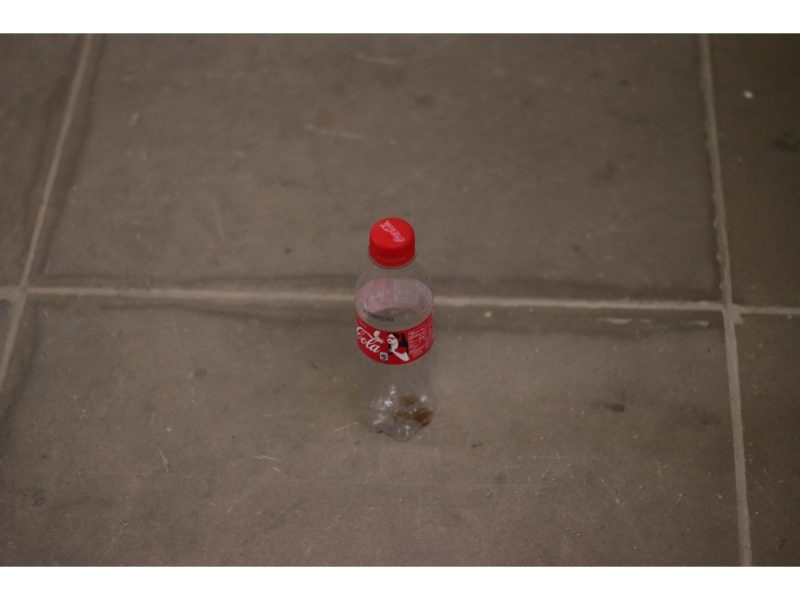PET #1: (353, 219, 440, 448)
